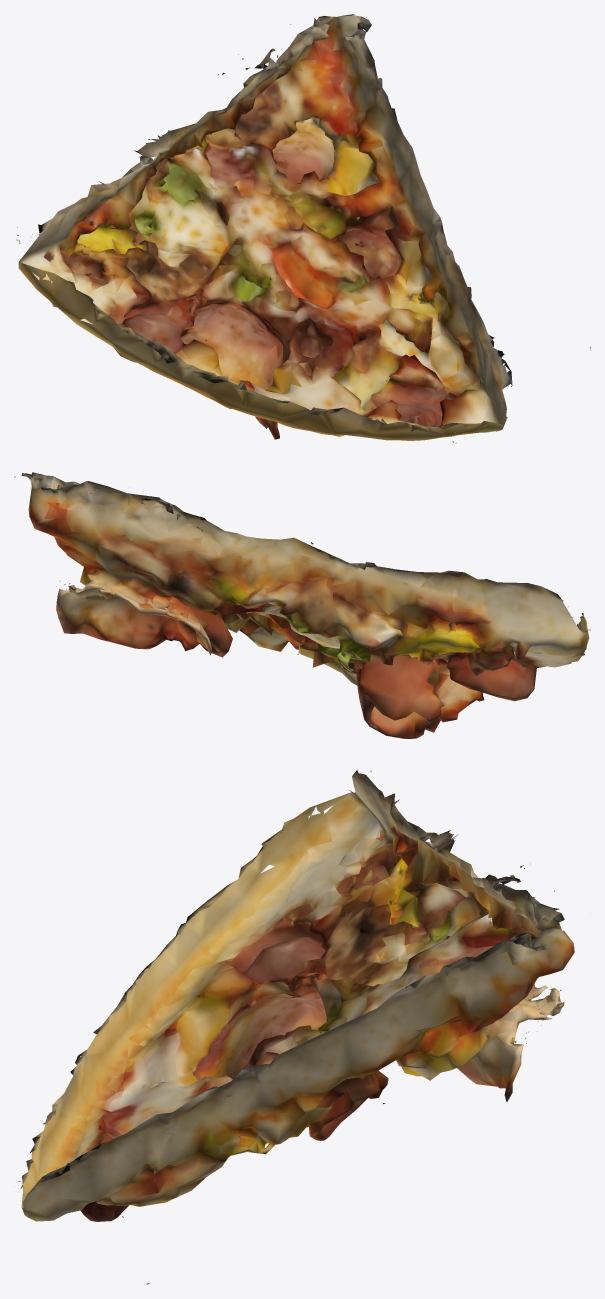
File: pizza_7368.obj
The picture shows the model from 3 angles, top to bottom: view 1: azimuth 30°, elevation 25°; view 2: azimuth 150°, elevation 25°; view 3: azimuth 270°, elevation 25°; orthographic projection. The views are drawn at different scales.
Size of the model in its own units: 1.61 by 0.8475 by 1.27.
1 material, 1 textured.
